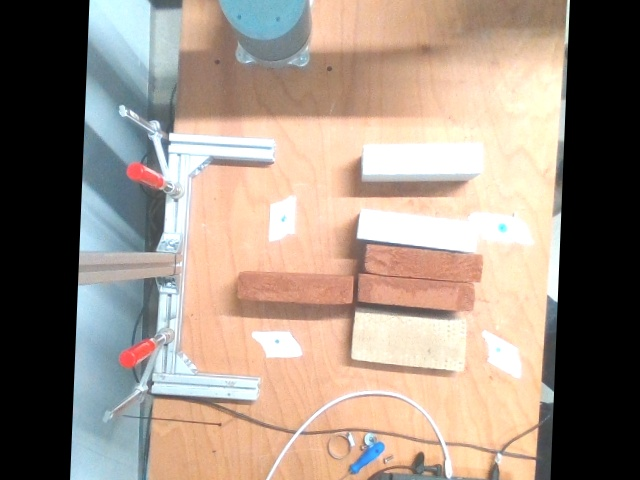brick: (351, 313, 465, 367)
brick-side: (358, 208, 478, 253), (364, 245, 480, 283), (359, 275, 475, 311), (364, 145, 480, 175), (240, 275, 353, 302)
